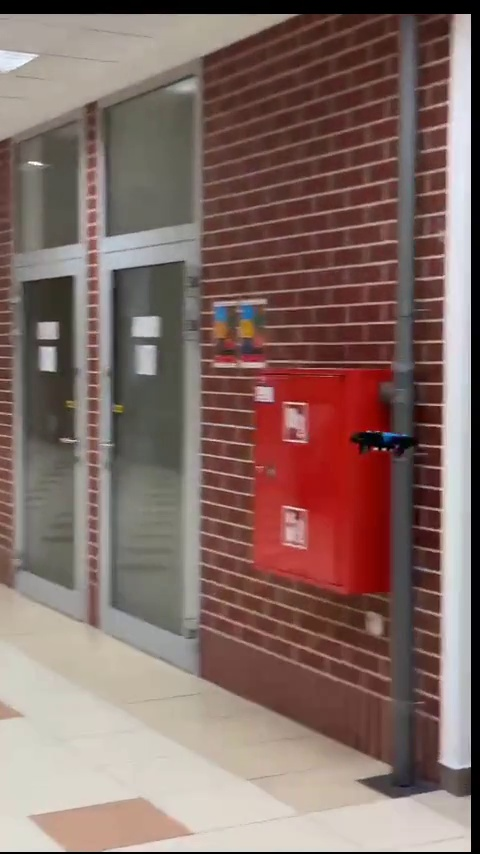drone: (355, 429, 420, 460)
